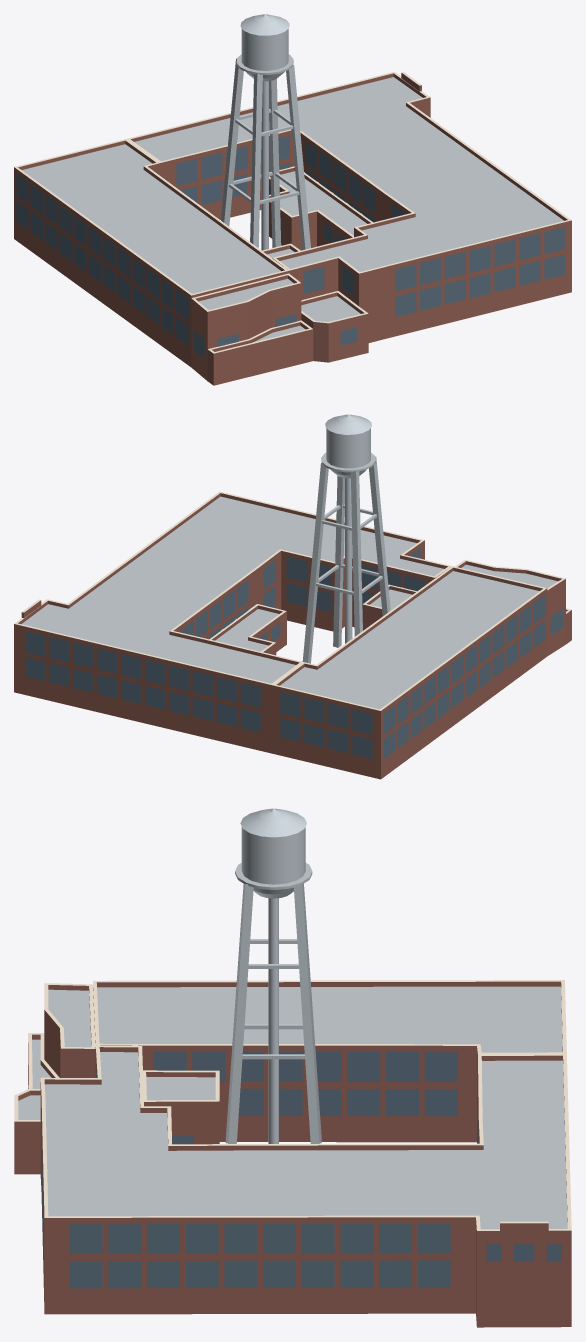
Rendered from clt-design-center.glb.
3 views of the same model, one above another, from view 1: azimuth 30°, elevation 25°; view 2: azimuth 150°, elevation 25°; view 3: azimuth 270°, elevation 25° (orthographic). The views are drawn at different scales.
Visible parts, largest first — view 1: Design Center of the Carolinas; view 2: Design Center of the Carolinas; view 3: Design Center of the Carolinas.
Part boxes in pixels (box(x1,y1,x2,y2)): Design Center of the Carolinas: box(14, 14, 571, 385); Design Center of the Carolinas: box(14, 414, 571, 779); Design Center of the Carolinas: box(14, 808, 571, 1327).
Size of the model in its own units: 61.55 by 41.2 by 57.68.
